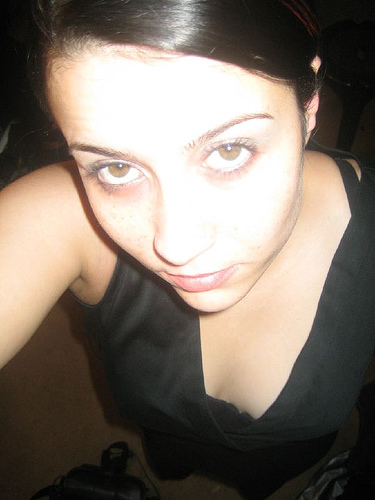without_mask: (25, 22, 327, 322)
